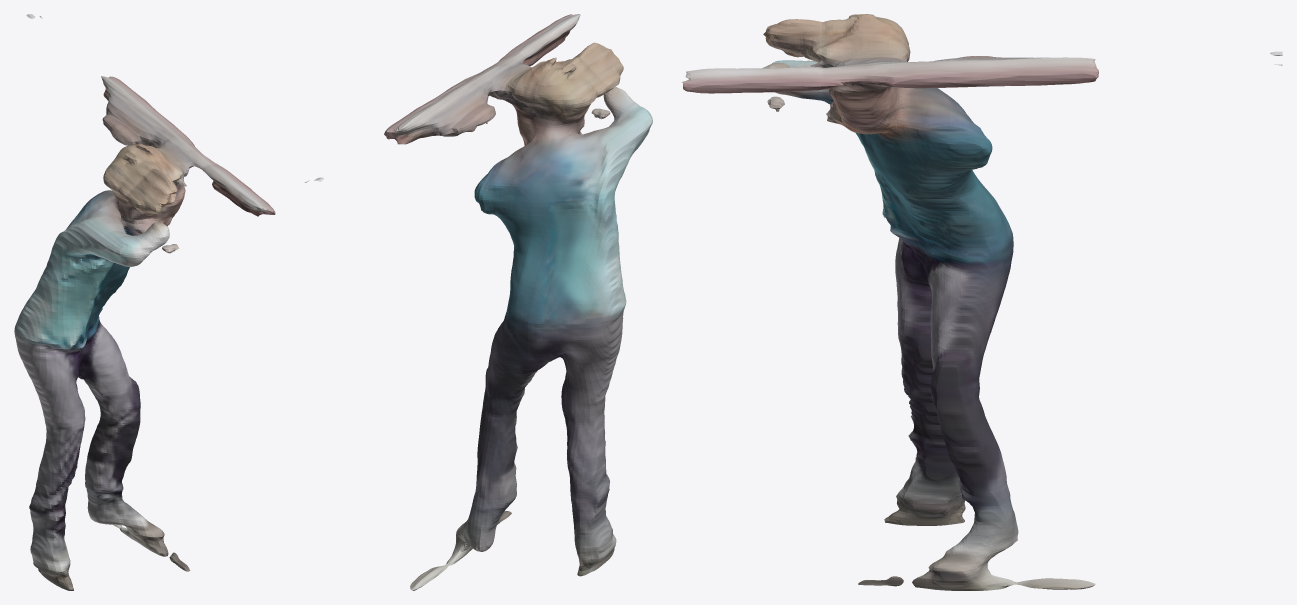
The model's file is 0090_tex.glb.
3 renders of one model, left to right at view 1: azimuth 30°, elevation 25°; view 2: azimuth 150°, elevation 25°; view 3: azimuth 270°, elevation 25°, orthographic. The views are drawn at different scales.
Visible parts, largest first — view 1: 0090_tex.obj; view 2: 0090_tex.obj; view 3: 0090_tex.obj.
Part boxes in pixels (<box>): 0090_tex.obj: <box>14,14,275,590</box>; 0090_tex.obj: <box>304,14,652,590</box>; 0090_tex.obj: <box>682,14,1282,590</box>.
Size of the model in its own units: 0.3316 by 0.8822 by 0.8767.
